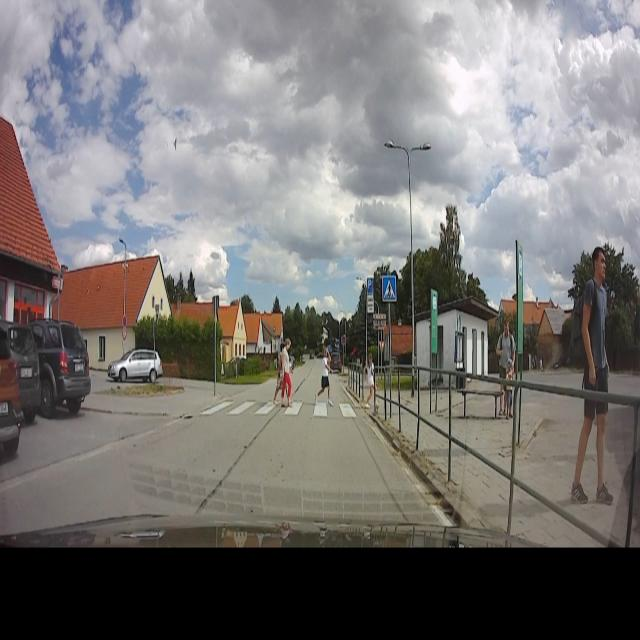Pedestrian crosswalk: (206, 396, 362, 419), (382, 275, 396, 303)
Person: (575, 242, 617, 506), (494, 317, 517, 419), (280, 337, 294, 410), (317, 343, 333, 404), (275, 340, 287, 408), (364, 352, 378, 407)
